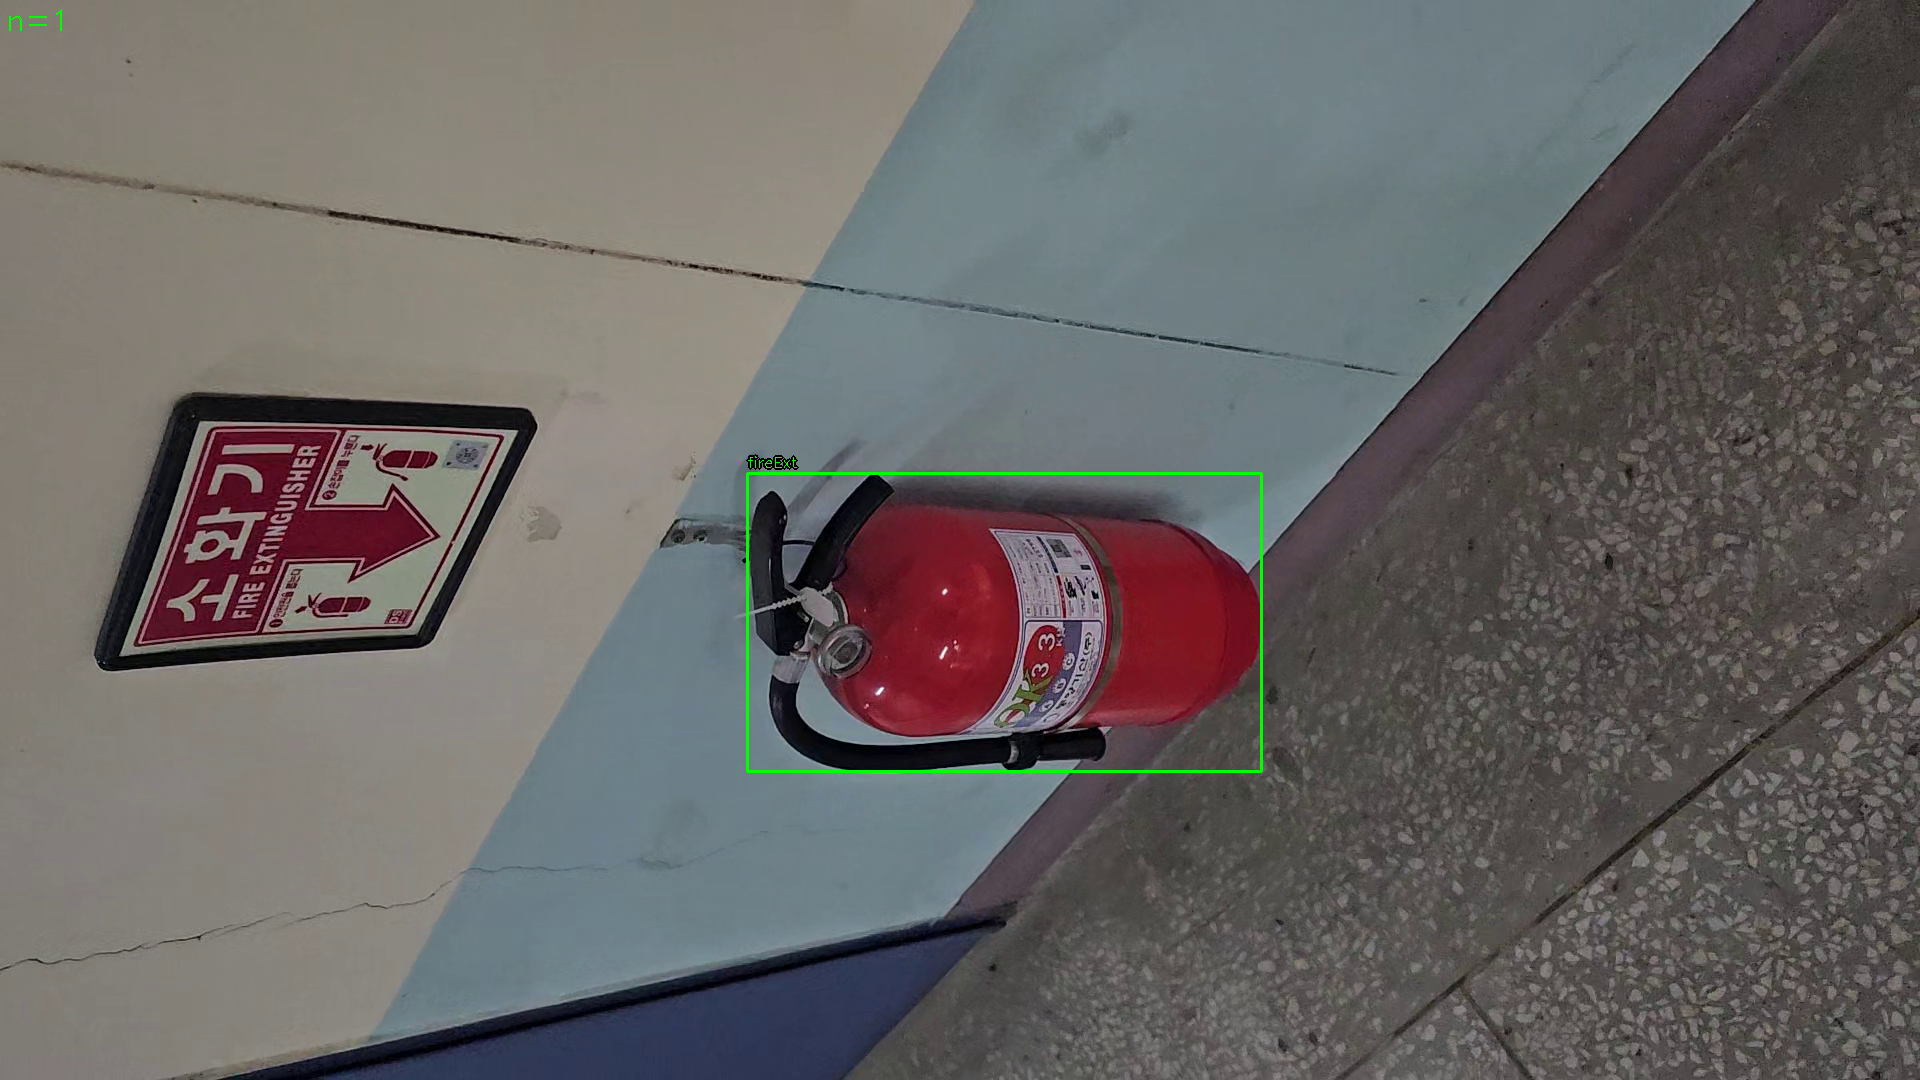lane: (746, 473, 1262, 771)
